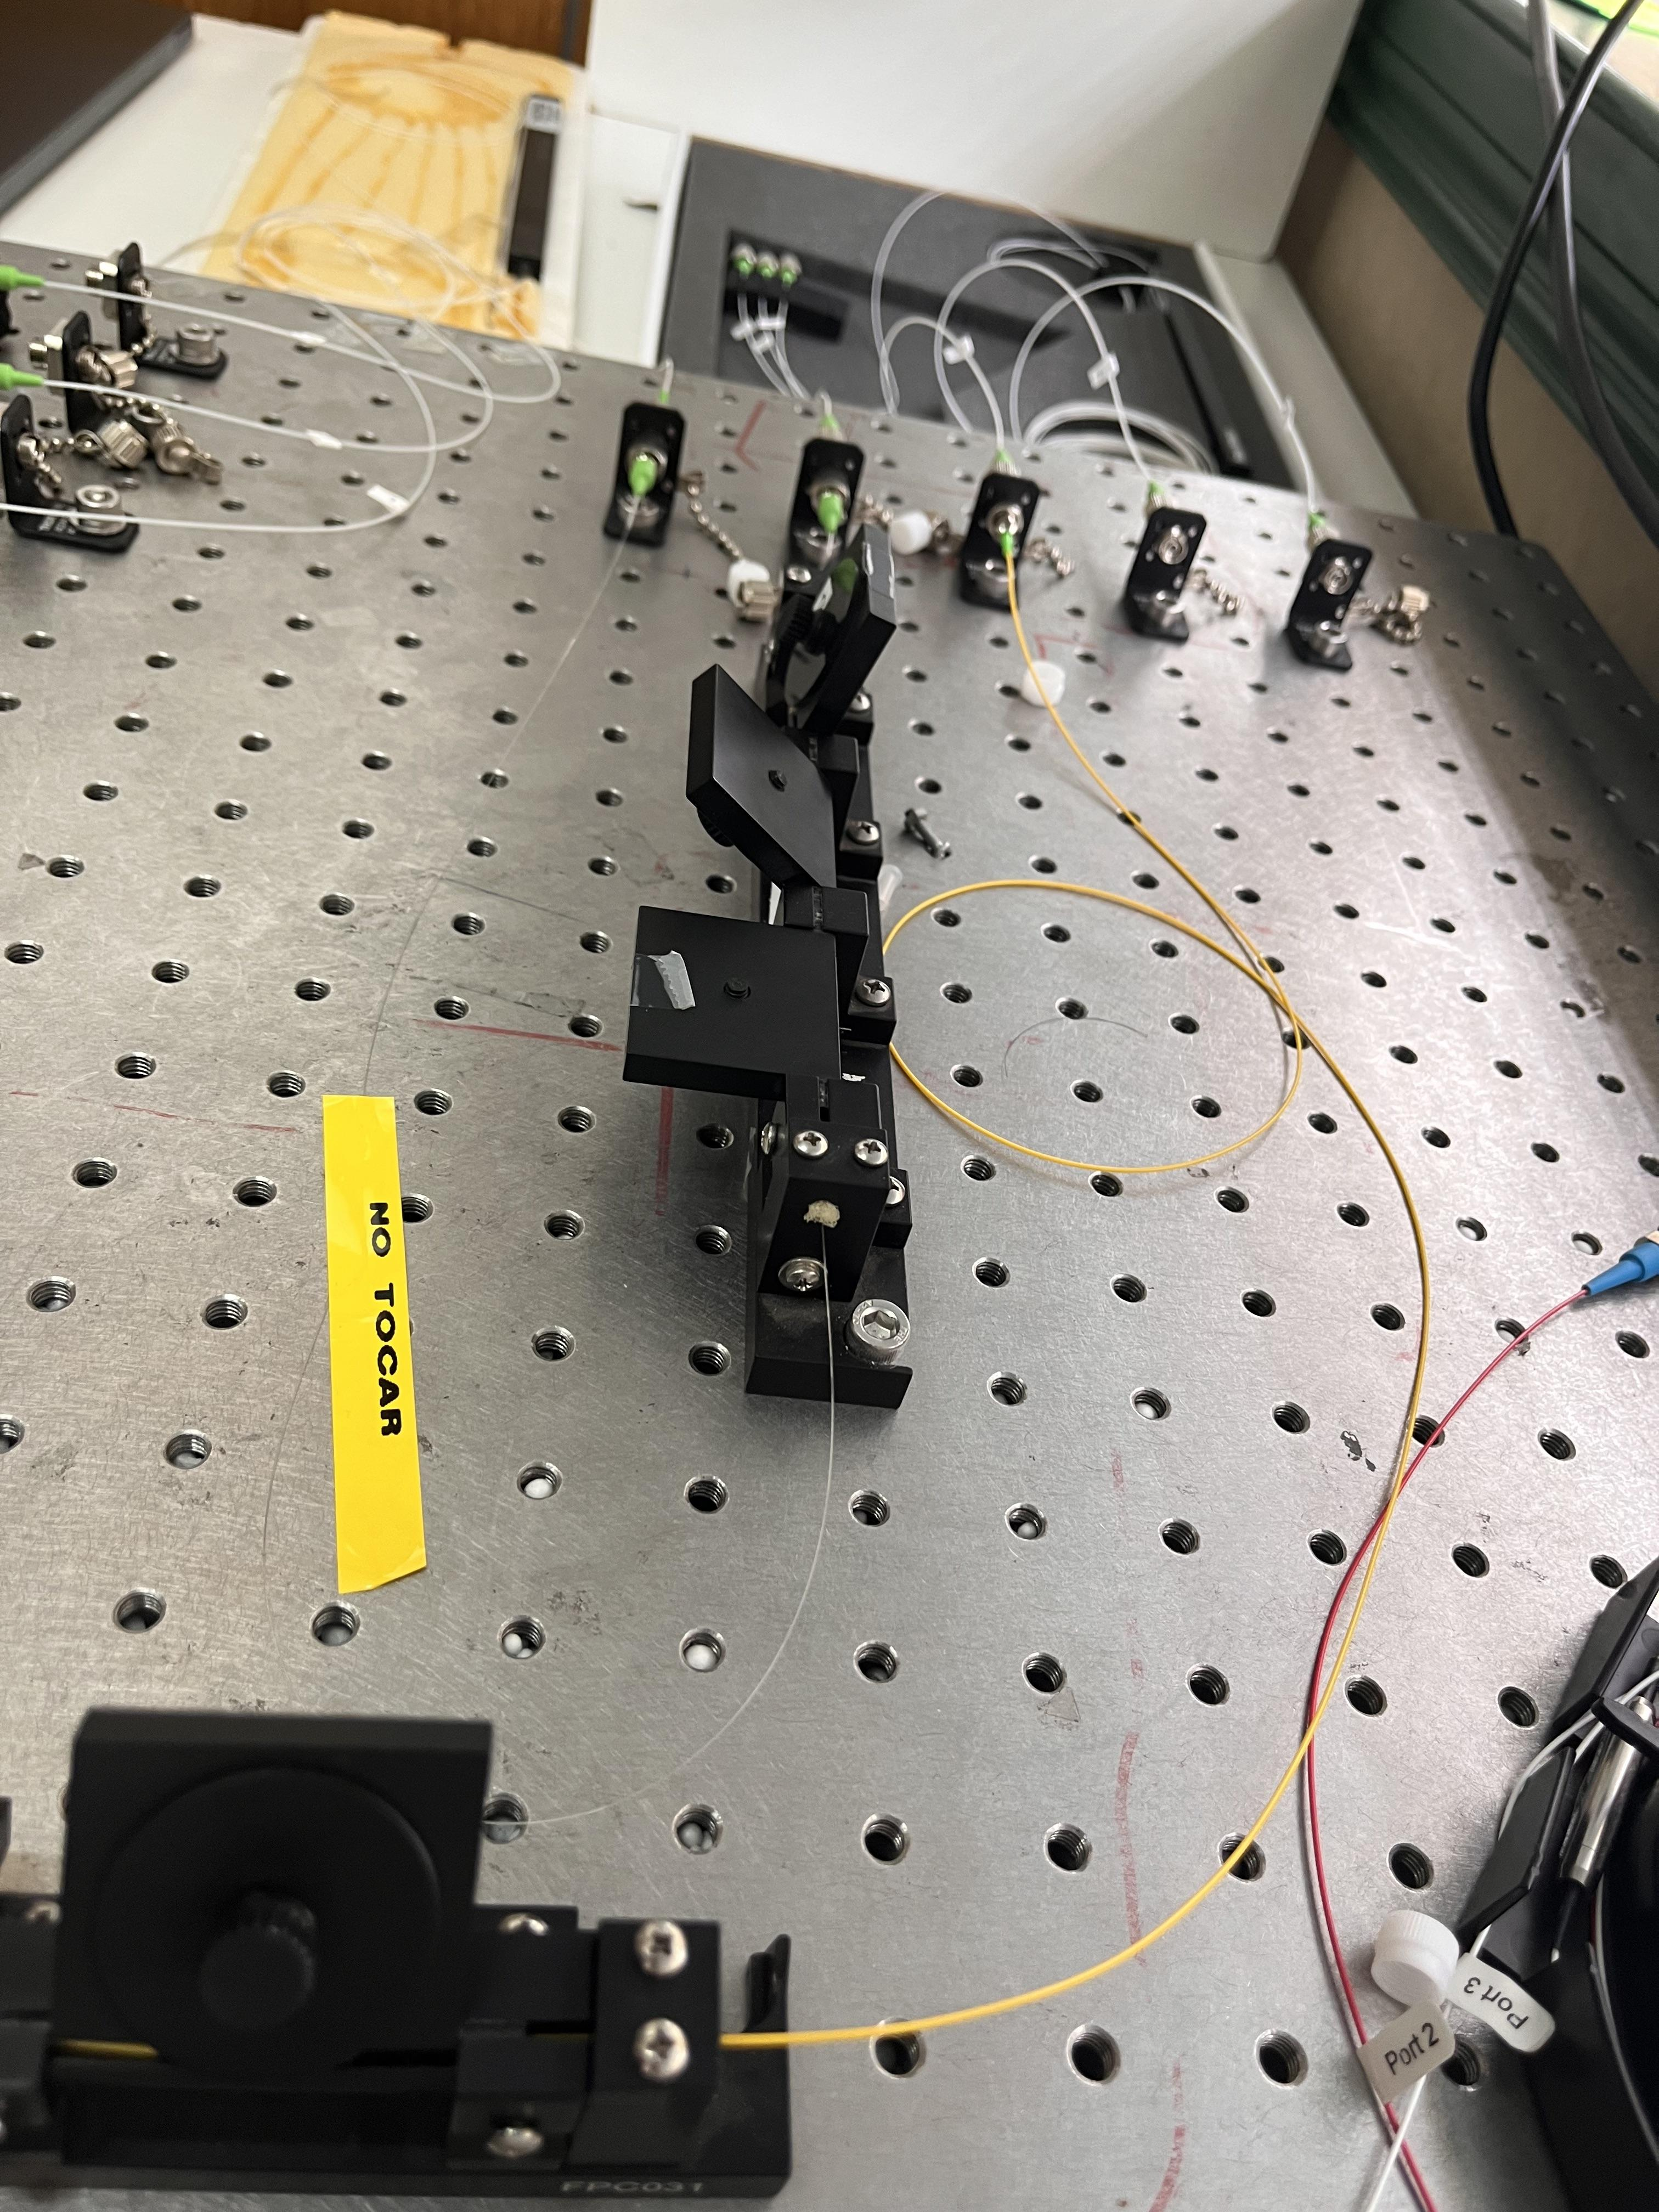paddle_polarization_controller: (0, 1698, 803, 2209), (620, 519, 917, 1413)
